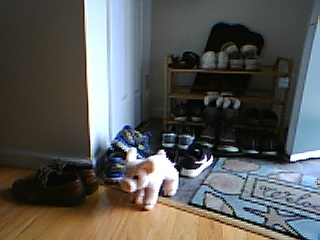piggy: (119, 146, 182, 212)
